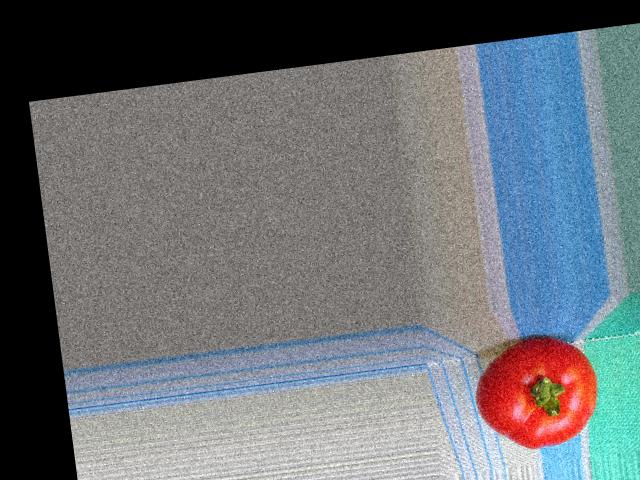tomato: (470, 329, 604, 455)
